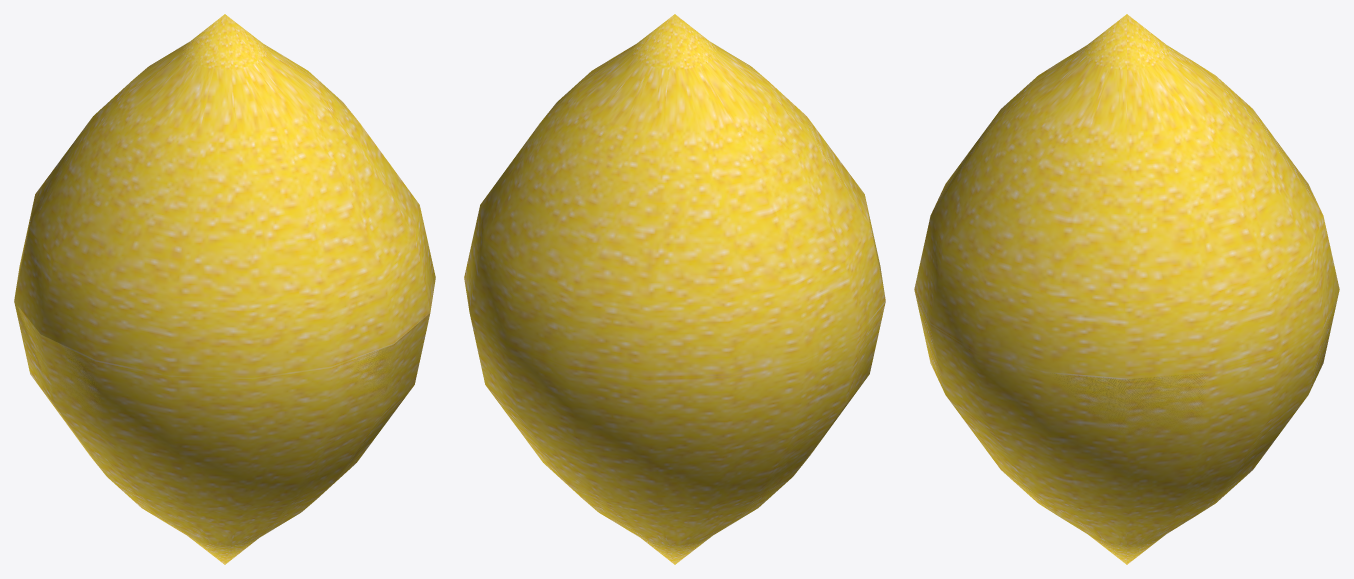
File: Fbx_Fruit_Lemon.fbx
3 views of the same model, side by side, from view 1: azimuth 30°, elevation 25°; view 2: azimuth 150°, elevation 25°; view 3: azimuth 270°, elevation 25° (orthographic).
Parts seen in each view (by area): view 1: Lemon Whole, Lemon Half; view 2: Lemon Whole; view 3: Lemon Whole, Lemon Half.
Boxes of the visible parts, x1=… form: Lemon Whole: x1=14, y1=14, x2=435, y2=564; Lemon Half: x1=17, y1=306, x2=430, y2=427; Lemon Whole: x1=464, y1=14, x2=885, y2=564; Lemon Whole: x1=914, y1=14, x2=1339, y2=564; Lemon Half: x1=1054, y1=373, x2=1207, y2=445.
Size of the model in its own units: 2 by 2.86 by 2.
Materials: 1 (1 with a texture image).
